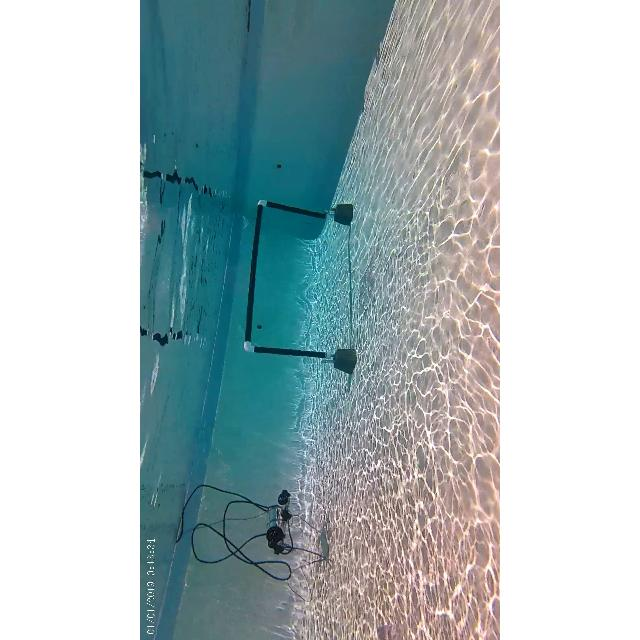prequal gate: (244, 200, 334, 360)
prequal gate leg l: (240, 338, 340, 364)
prequal gate leg r: (252, 198, 334, 224)
